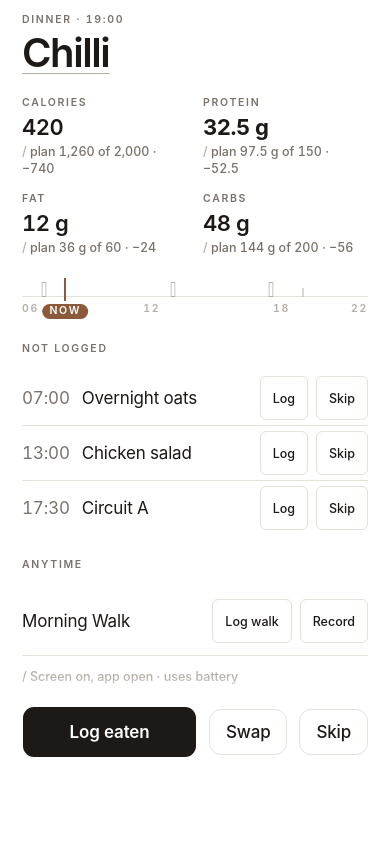
Test: logging the active item › takes the line back when the log is refused
Click the button "Log eaten" at (110, 732), box [22,706,197,758]
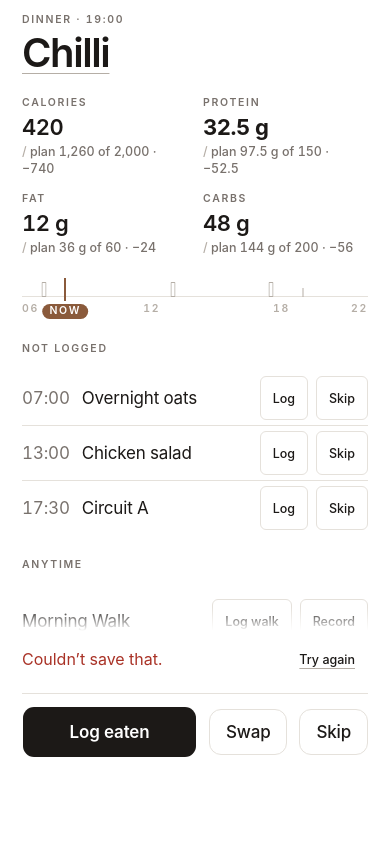
expect the heading "Chilli" is shown: met, box [22,28,110,77]
expect the message "Couldn’t save that. Try again" is shown: met, box [22,637,368,694]
